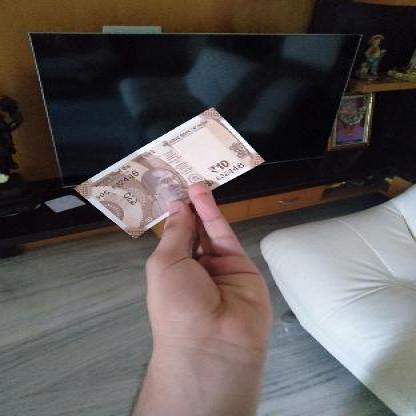New10Front: (72, 107, 265, 237)
